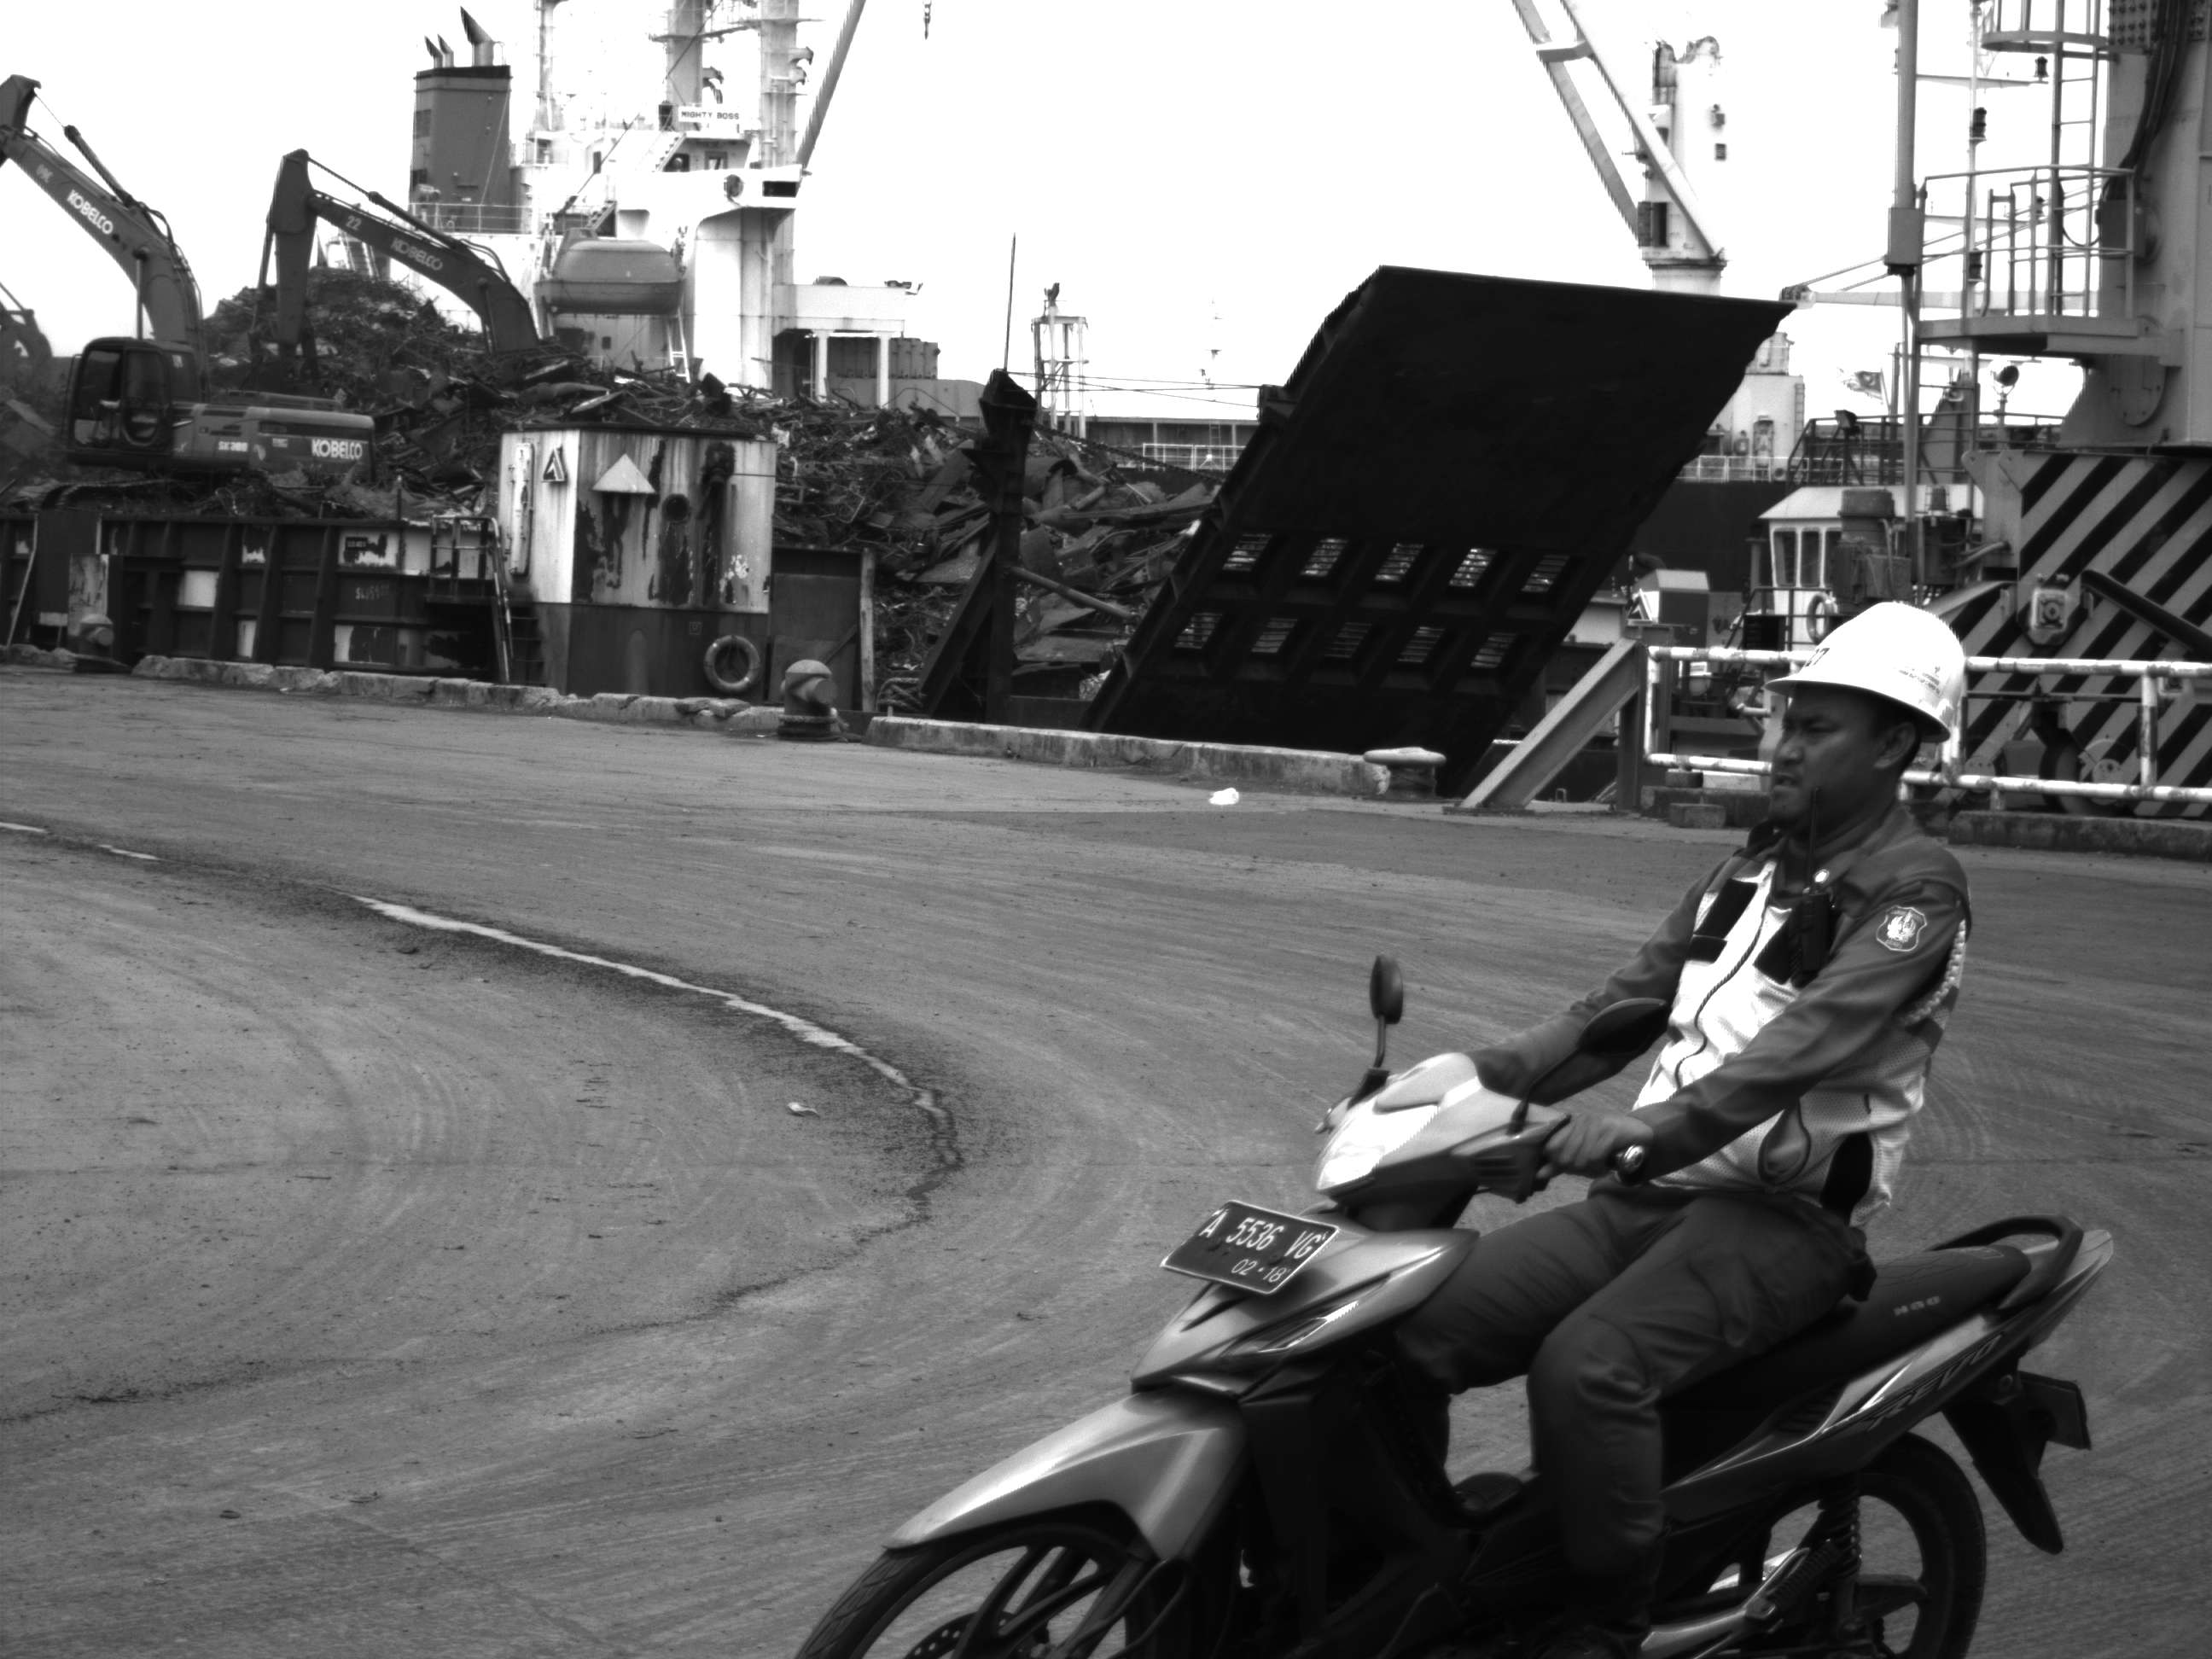day_motorcycle_front: (756, 1104, 2007, 1654)
plate: (1160, 1213, 1327, 1289)
